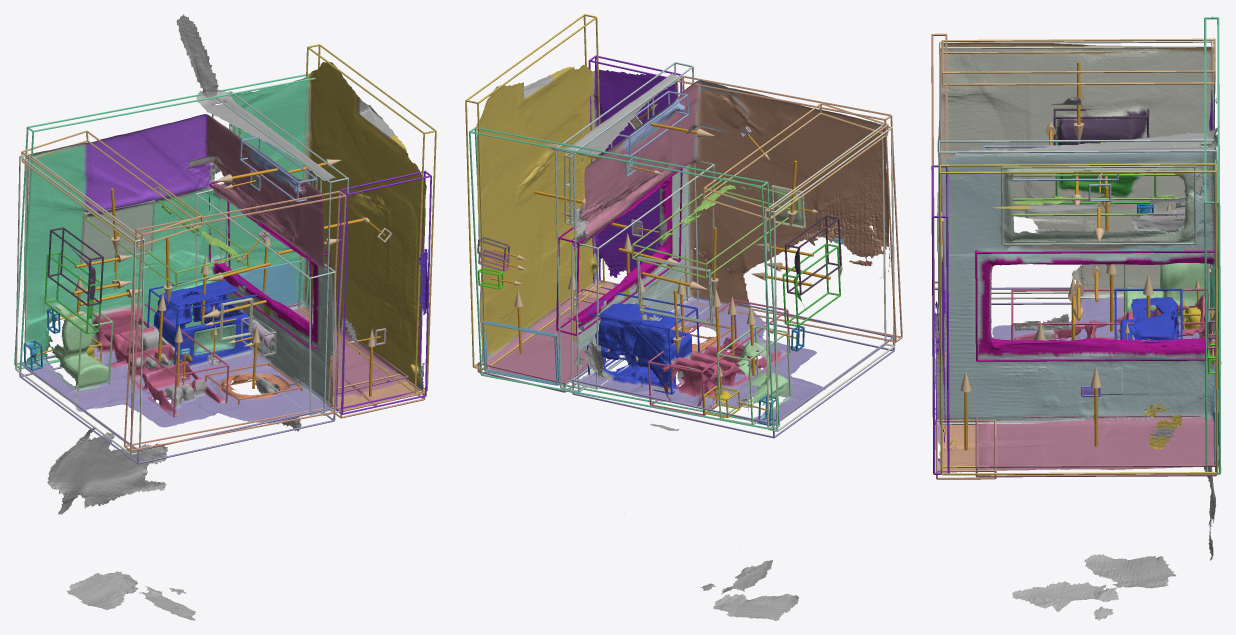
Rendered from scene_00119_01-obb.compressed.gltf.
The picture shows the model from 3 angles, left to right: view 1: azimuth 30°, elevation 25°; view 2: azimuth 150°, elevation 25°; view 3: azimuth 270°, elevation 25°; orthographic projection. The views are drawn at different scales.
Size of the model in its own units: 3.85 by 6.3 by 2.62.
